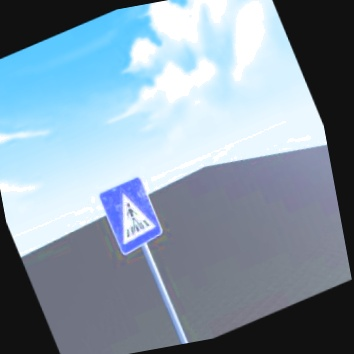crosswalk: (95, 173, 167, 259)
